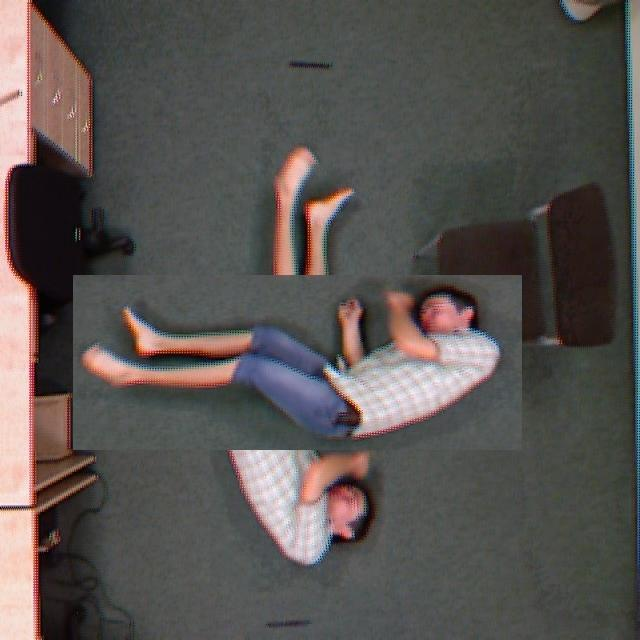Fall: (98, 269, 520, 455)
